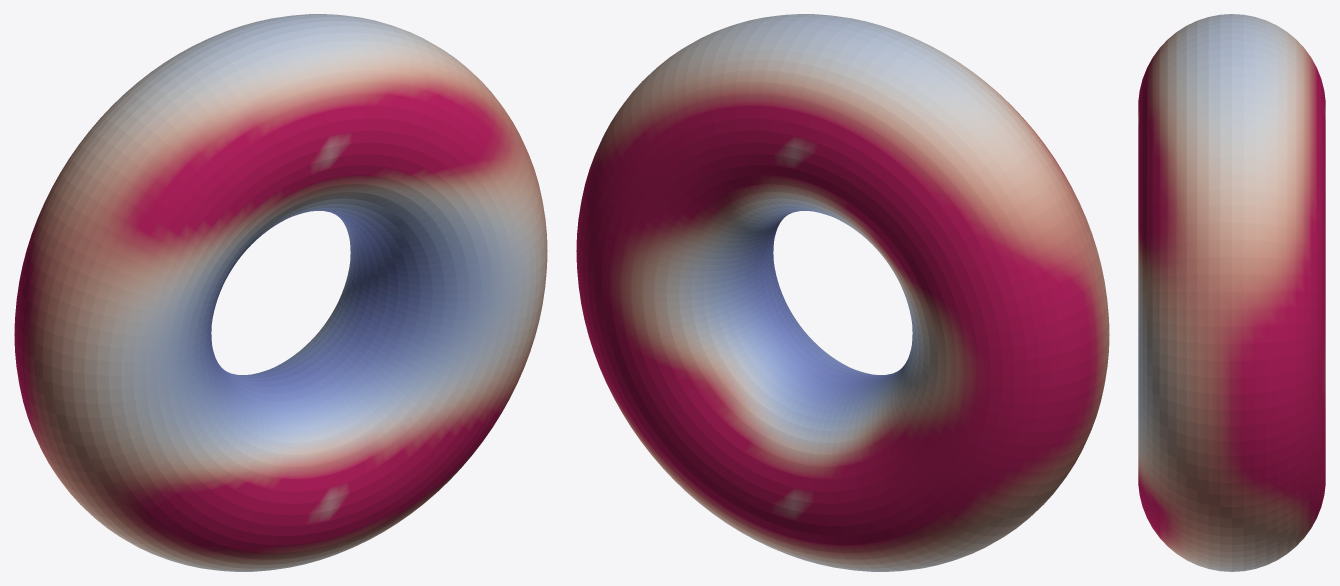
The picture shows the model from 3 angles, left to right: view 1: azimuth 30°, elevation 25°; view 2: azimuth 150°, elevation 25°; view 3: azimuth 270°, elevation 25°; orthographic projection. The views are drawn at different scales.
Visible parts, largest first — view 1: world; view 2: world; view 3: world.
Part boxes in pixels (<box>): world: <box>14,14,547,571</box>; world: <box>576,14,1109,571</box>; world: <box>1138,14,1325,571</box>.
Size of the model in its own units: 21.78 by 21.78 by 7.32.
